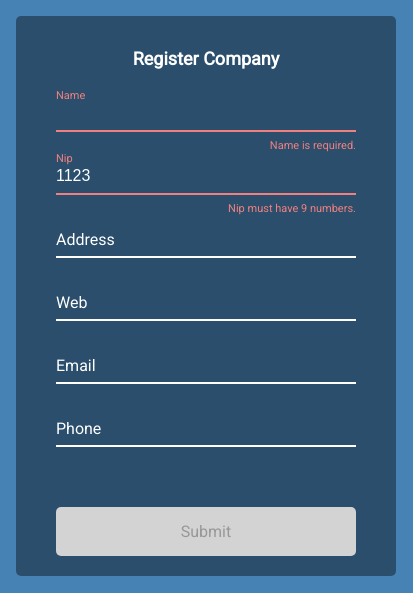
Scenario: Testing Form Company › Address should have less than 20 characters.
Type "Avenida Casa Blanca #3, Reparte Guiteras, Habana del Este" into the field with test id "address-input".
click(206, 237); type("Avenida Casa Blanca #3, Reparte Guiteras, Habana del Este")  # box [56,215,356,258]
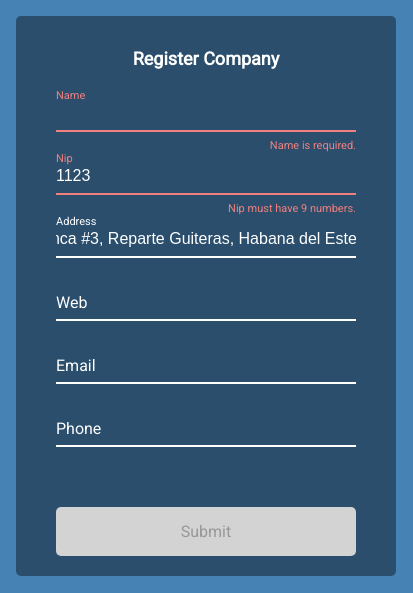
Leave the field with test id "address-input", box [56,215,356,258]
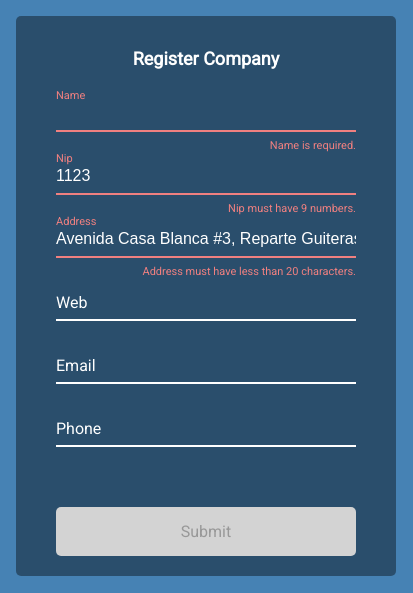
Check: the text "Address must have less than 20 characters." is shown, box [142,265,356,278]
